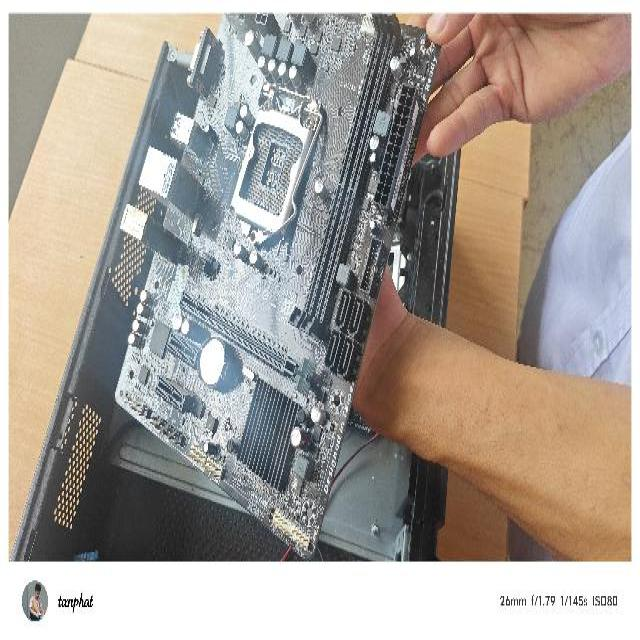Mainboard: (112, 13, 460, 560)
